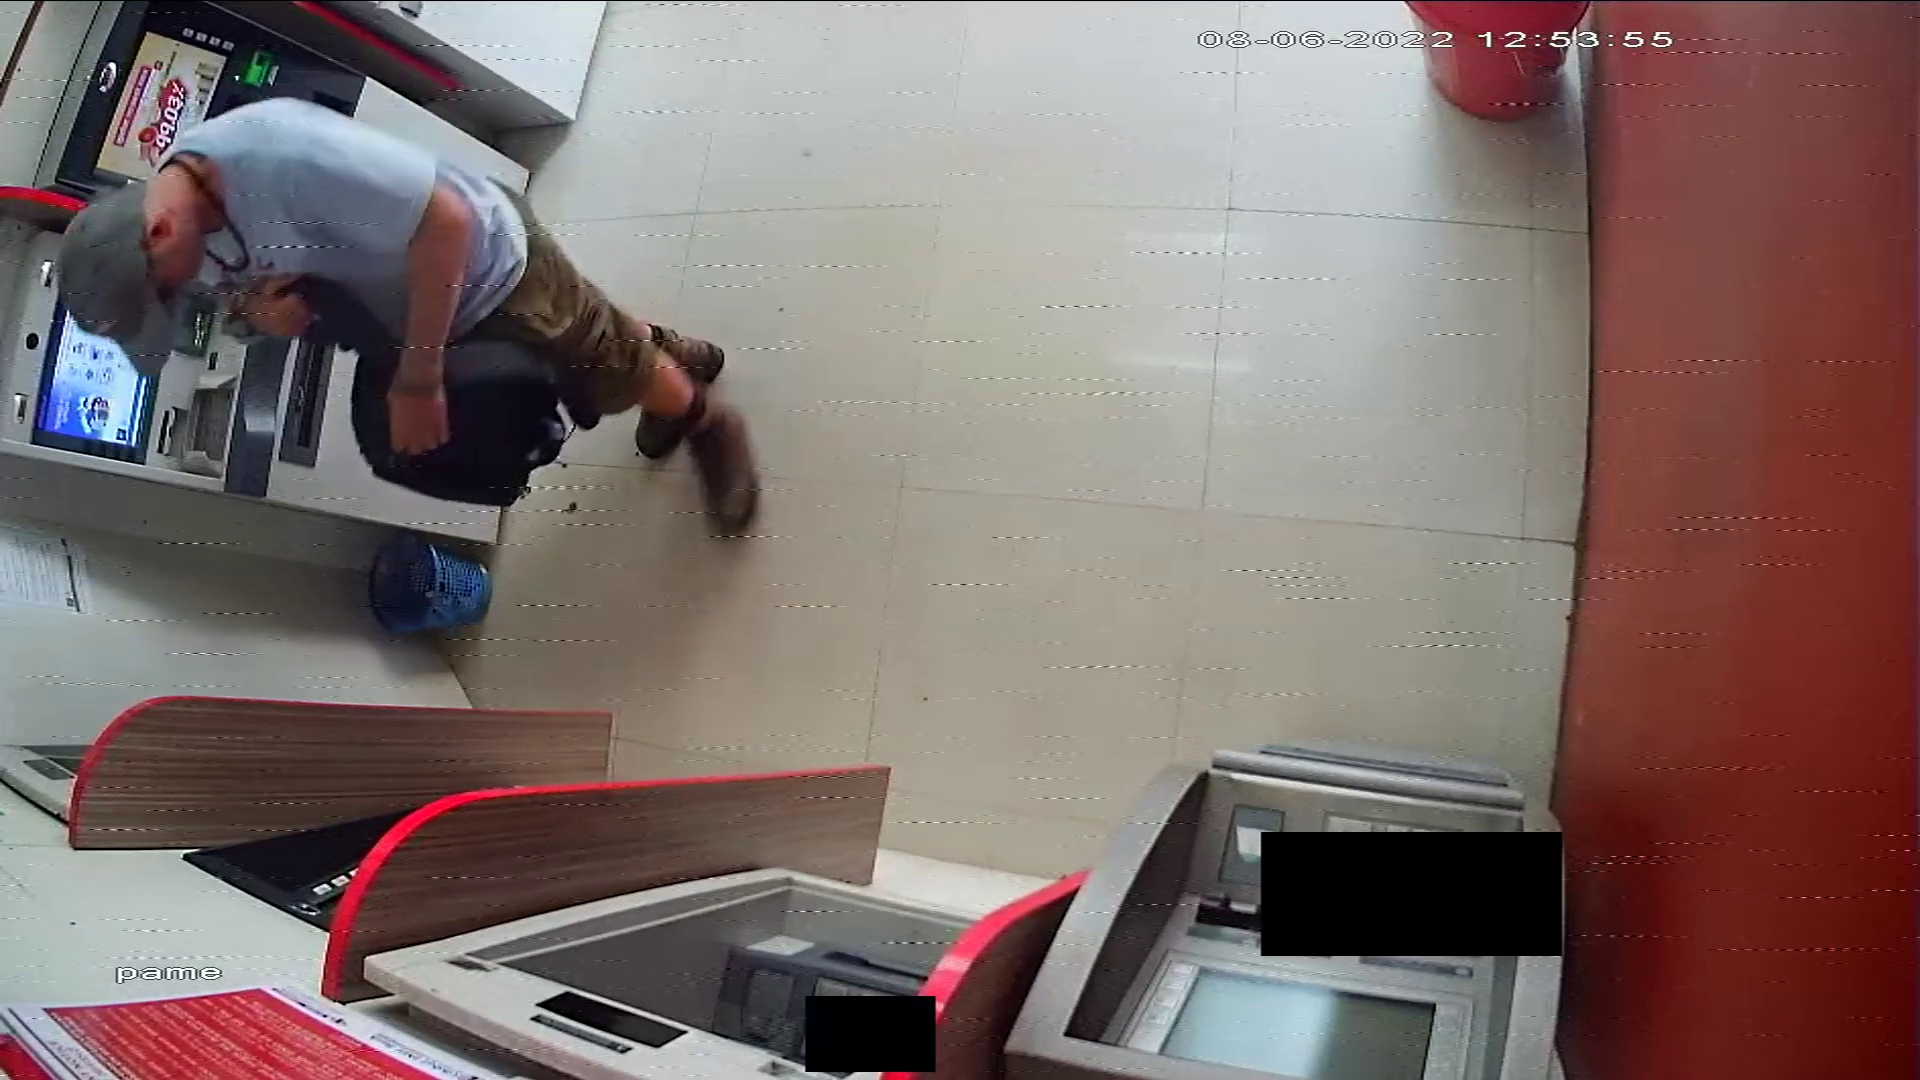person: (60, 98, 773, 539)
